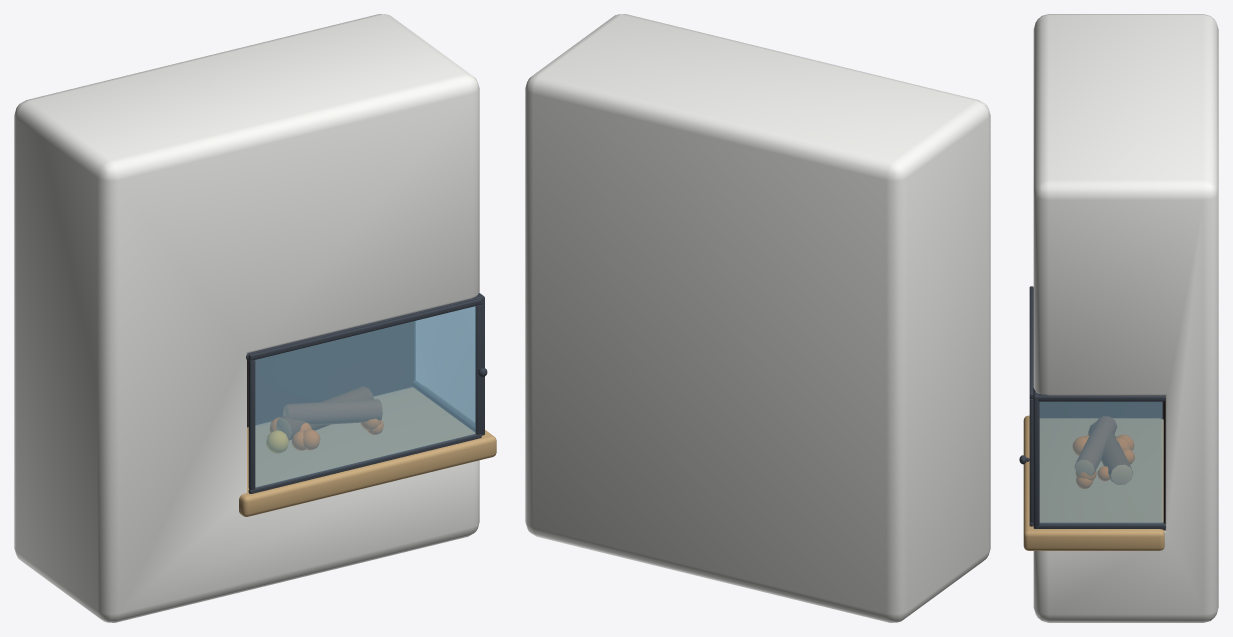
Rendered from lareira_caixa_vidro_larga.glb.
The picture shows the model from 3 angles, left to right: view 1: azimuth 30°, elevation 25°; view 2: azimuth 150°, elevation 25°; view 3: azimuth 270°, elevation 25°; orthographic projection. The views are drawn at different scales.
Parts seen in each view (by area): view 1: lareira_caixa_vidro_larga, porta_1; view 2: lareira_caixa_vidro_larga; view 3: lareira_caixa_vidro_larga, porta_1.
Boxes of the visible parts, <box> form: lareira_caixa_vidro_larga: <box>14,14,496,622</box>; porta_1: <box>248,298,487,493</box>; lareira_caixa_vidro_larga: <box>525,14,990,622</box>; lareira_caixa_vidro_larga: <box>1023,14,1218,622</box>; porta_1: <box>1019,286,1033,526</box>.
Size of the model in its own units: 1.27 by 1.45 by 0.5926.
3 materials, 1 textured.
